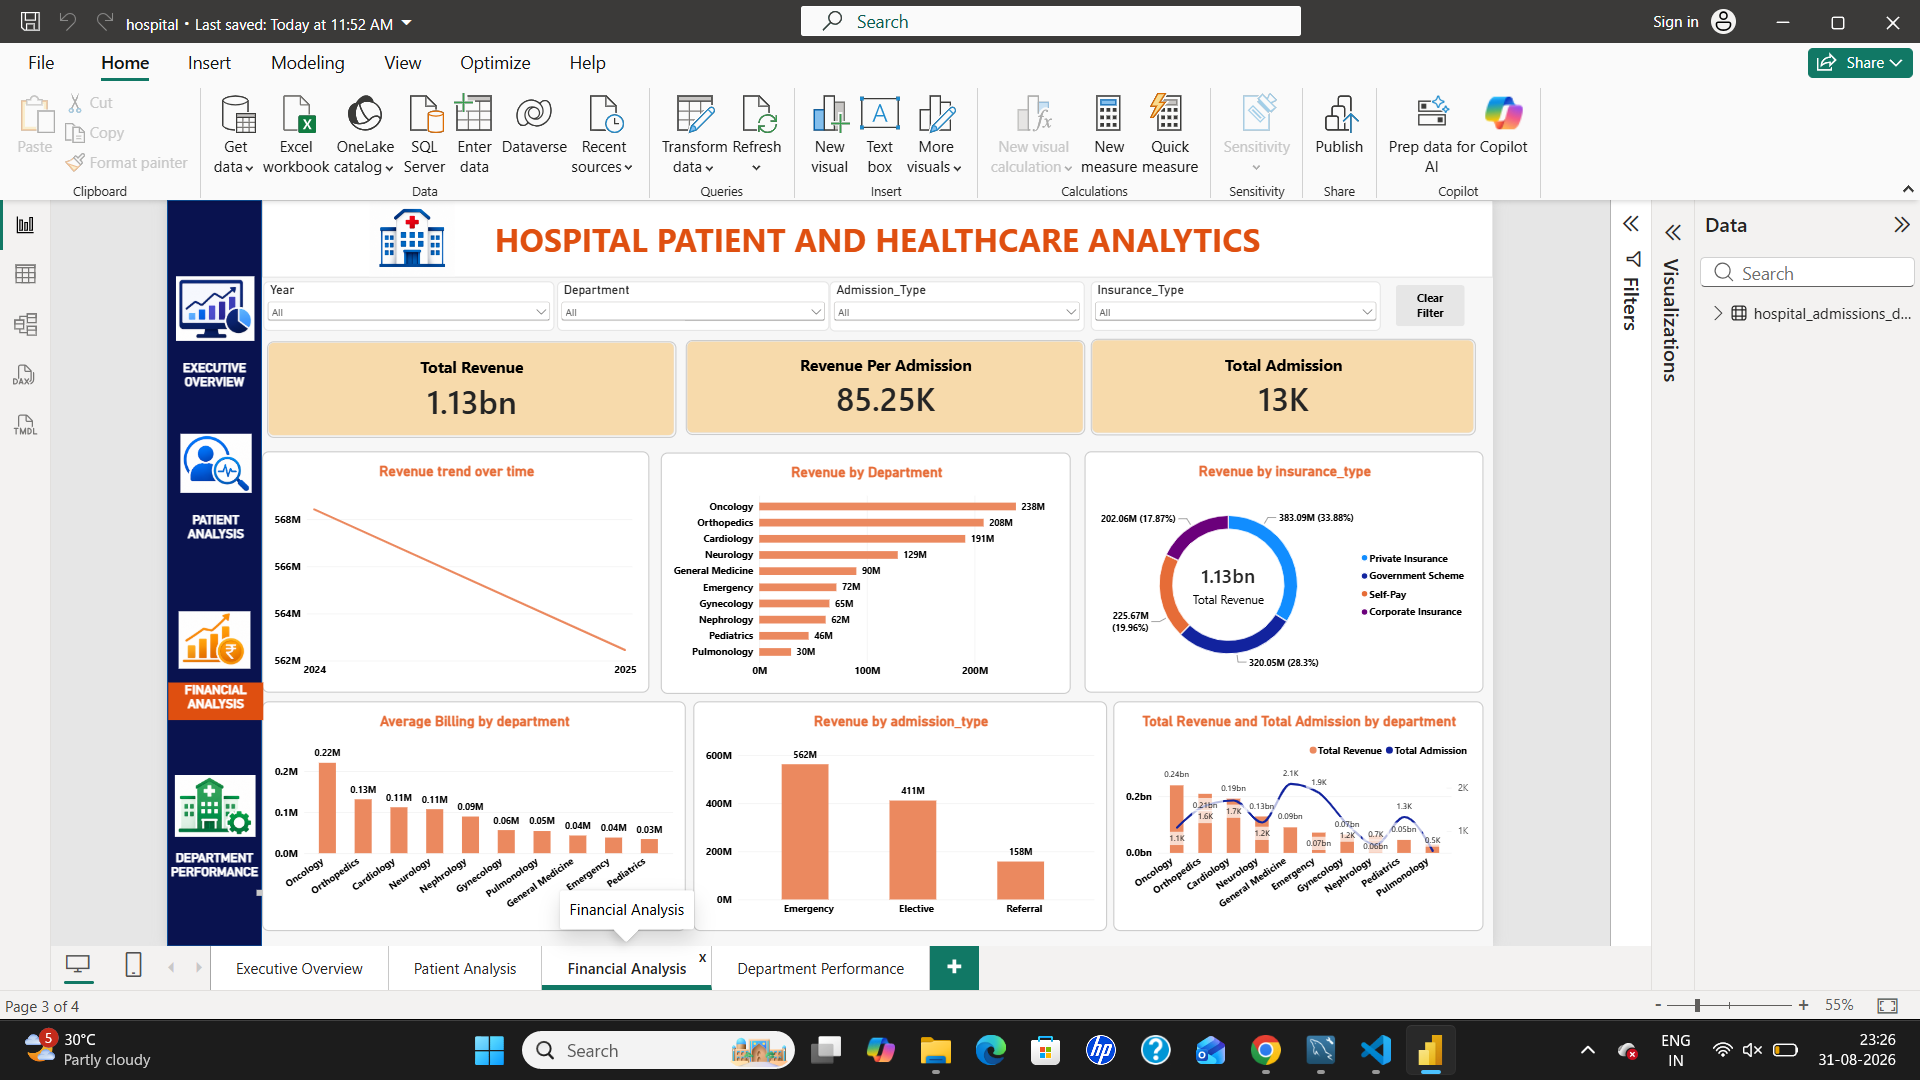

This screenshot's page, from the dashboard's own definition file:
{"tool":"powerbi","page":{"name":"Financial Analysis","canvas":[1920,1080],"ordinal":2},"visuals":[{"type":"shape","box":[0,0,137.5,1080.4],"z":0},{"type":"shape","box":[137.5,0,1782.5,112.2],"z":1000},{"type":"slicer","fields":{"Values":["hospital_admissions_data.admission_date.Variation.Date Hierarchy.Year"]},"box":[139.3,117.6,421.7,72.4],"z":2000},{"type":"slicer","fields":{"Values":["hospital_admissions_data.department"]},"box":[564.6,117.6,394.5,72.4],"z":3000},{"type":"slicer","fields":{"Values":["hospital_admissions_data.admission_type"]},"box":[959.1,117.6,369.2,73.1],"z":4000},{"type":"slicer","fields":{"Values":["hospital_admissions_data.insurance_type"]},"box":[1337.3,117.6,419.8,72.4],"z":5000},{"type":"cardVisual","fields":{"Data":["hospital_admissions_data.Total Revenue"]},"box":[144,204.5,592.7,139.8],"z":6000},{"type":"cardVisual","fields":{"Data":["hospital_admissions_data.Revenue Per Admission"]},"box":[751.3,202.4,578.1,137.7],"z":7000},{"type":"cardVisual","fields":{"Data":["hospital_admissions_data.Total Admission"]},"box":[1337.7,200.3,557.2,139.8],"z":8000},{"type":"lineChart","title":" Revenue trend over time","fields":{"Y":["hospital_admissions_data.Total Revenue"],"Category":["hospital_admissions_data.admission_date.Variation.Date Hierarchy.Year","hospital_admissions_data.admission_date.Variation.Date Hierarchy.Month"]},"box":[137.5,363.7,561,349.3],"z":9000},{"type":"clusteredBarChart","title":"Revenue by Department","fields":{"Category":["hospital_admissions_data.department"],"Y":["hospital_admissions_data.Total Revenue"]},"box":[714.8,365.6,593.6,349.3],"z":10000},{"type":"donutChart","title":" Revenue by insurance_type","fields":{"Category":["hospital_admissions_data.insurance_type"],"Y":["hospital_admissions_data.Total Revenue"]},"box":[1328.3,363.7,577.3,349.3],"z":11000},{"type":"clusteredColumnChart","title":" Revenue by admission_type","fields":{"Category":["hospital_admissions_data.admission_type"],"Y":["hospital_admissions_data.Total Revenue"]},"box":[761.9,725.7,599,333],"z":12000},{"type":"columnChart","title":"Average Billing by department","fields":{"Category":["hospital_admissions_data.department"],"Y":["hospital_admissions_data.Average Billing"]},"box":[137.5,725.7,613.5,333],"z":13000},{"type":"lineClusteredColumnComboChart","title":"Total Revenue and Total Admission by department","fields":{"Category":["hospital_admissions_data.department"],"Y":["hospital_admissions_data.Total Revenue"],"Y2":["hospital_admissions_data.Total Admission"]},"box":[1369.9,725.7,535.7,333],"z":14000},{"type":"actionButton","box":[1778.9,123.1,100,59.6],"z":15000},{"type":"image","box":[242.5,1.8,224.4,108.6],"z":16000},{"type":"textbox","title":"EXECUTIVE OVERVIEW","box":[0,231.7,137.7,83.5],"z":17000},{"type":"textbox","title":"PATIENT ANALYSIS","box":[2.1,452.9,137.7,85.6],"z":18000},{"type":"textbox","title":"FINANCIAL ANALYSIS","box":[2.1,699.1,137.7,54.3],"z":19000},{"type":"textbox","title":"DEPARTMENT PERFORMANCE","box":[0,941.2,137.7,66.8],"z":20000},{"type":"image","box":[2.1,110.6,135.7,93.9],"z":21000},{"type":"image","box":[2.1,338.1,137.7,85.6],"z":22000},{"type":"image","box":[0,594.8,137.7,83.5],"z":23000},{"type":"image","box":[2.1,832.7,135.7,89.7],"z":24000}]}

Visuals, with their boxes on the page's 1920x1080 design canvas (x1, y1, x2, y2). These are canvas units, not pixel positions in the 1920x1080 screenshot, which may show the page scaled, cropped or inside an application window:
shape: box(0, 0, 138, 1080)
shape: box(138, 0, 1920, 112)
slicer - hospital_admissions_data.admission_date.Variation.Date Hierarchy.Year: box(139, 118, 561, 190)
slicer - hospital_admissions_data.department: box(565, 118, 959, 190)
slicer - hospital_admissions_data.admission_type: box(959, 118, 1328, 191)
slicer - hospital_admissions_data.insurance_type: box(1337, 118, 1757, 190)
cardVisual - hospital_admissions_data.Total Revenue: box(144, 204, 737, 344)
cardVisual - hospital_admissions_data.Revenue Per Admission: box(751, 202, 1329, 340)
cardVisual - hospital_admissions_data.Total Admission: box(1338, 200, 1895, 340)
" Revenue trend over time" lineChart: box(138, 364, 698, 713)
"Revenue by Department" clusteredBarChart: box(715, 366, 1308, 715)
" Revenue by insurance_type" donutChart: box(1328, 364, 1906, 713)
" Revenue by admission_type" clusteredColumnChart: box(762, 726, 1361, 1059)
"Average Billing by department" columnChart: box(138, 726, 751, 1059)
"Total Revenue and Total Admission by department" lineClusteredColumnComboChart: box(1370, 726, 1906, 1059)
actionButton: box(1779, 123, 1879, 183)
image: box(242, 2, 467, 110)
"EXECUTIVE OVERVIEW" textbox: box(0, 232, 138, 315)
"PATIENT ANALYSIS" textbox: box(2, 453, 140, 538)
"FINANCIAL ANALYSIS" textbox: box(2, 699, 140, 753)
"DEPARTMENT PERFORMANCE" textbox: box(0, 941, 138, 1008)
image: box(2, 111, 138, 204)
image: box(2, 338, 140, 424)
image: box(0, 595, 138, 678)
image: box(2, 833, 138, 922)
